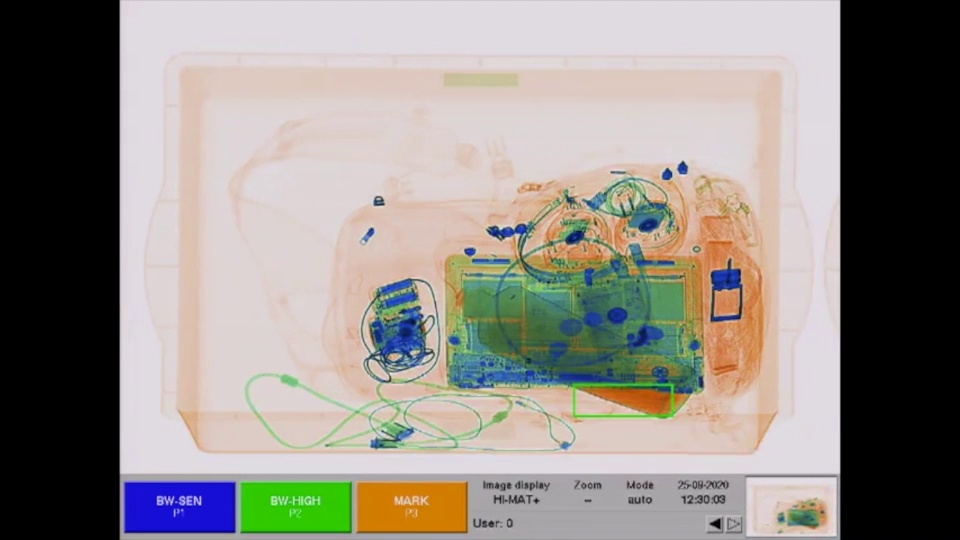tray_img: (141, 44, 819, 464)
